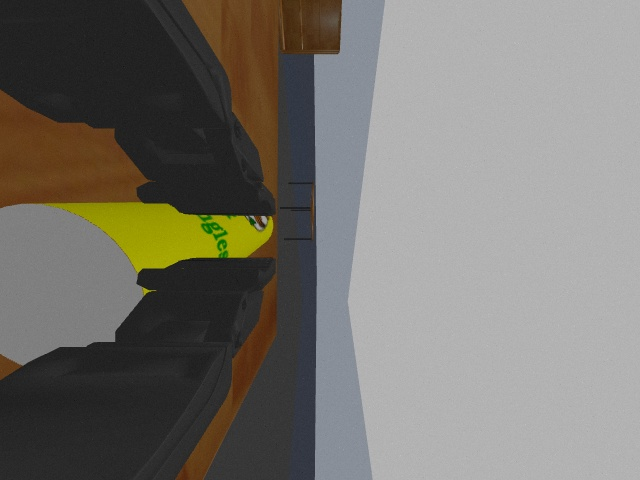chipsdose_gelb: (1, 203, 274, 368)
